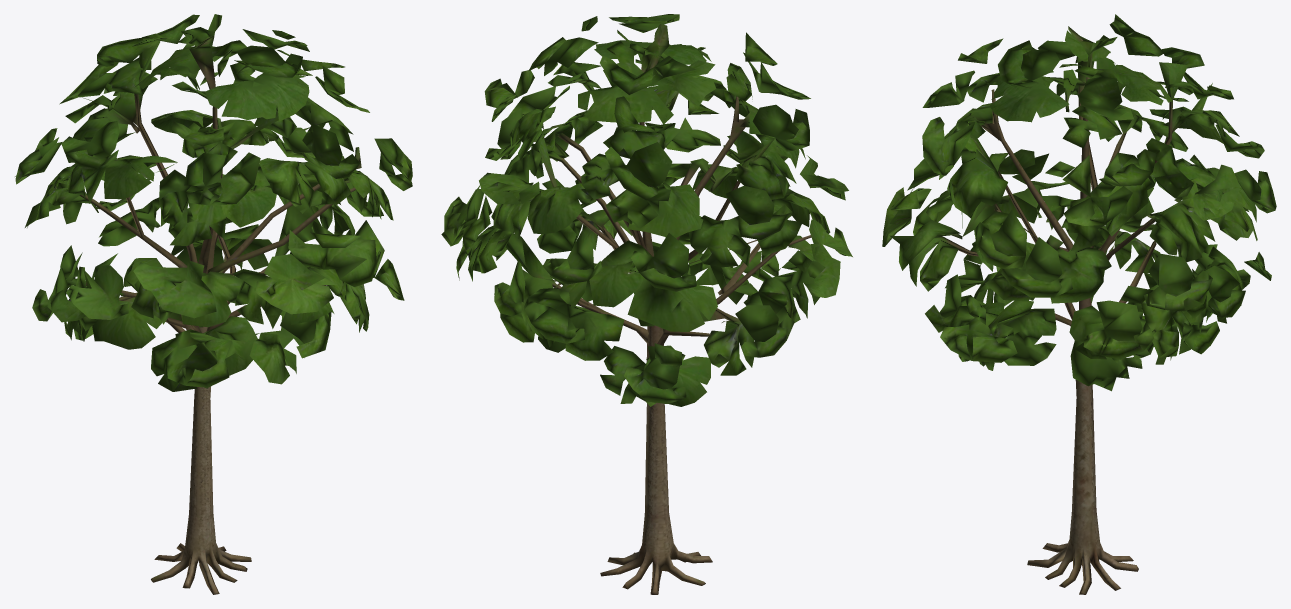
Rendered from tropical-tree.glb.
3 views of the same model, side by side, from view 1: azimuth 30°, elevation 25°; view 2: azimuth 150°, elevation 25°; view 3: azimuth 270°, elevation 25° (orthographic).
Visible parts, largest first — view 1: tripo_node_efb62ff9-78cc-4d41-b918-d1b6026160a8; view 2: tripo_node_efb62ff9-78cc-4d41-b918-d1b6026160a8; view 3: tripo_node_efb62ff9-78cc-4d41-b918-d1b6026160a8.
Part boxes in pixels (x1=…): tripo_node_efb62ff9-78cc-4d41-b918-d1b6026160a8: x1=15, y1=14, x2=412, y2=594; tripo_node_efb62ff9-78cc-4d41-b918-d1b6026160a8: x1=441, y1=14, x2=852, y2=594; tripo_node_efb62ff9-78cc-4d41-b918-d1b6026160a8: x1=882, y1=14, x2=1276, y2=594.
Bounding box in the file's own units: 0.666 × 0.998 × 0.6543.
1 material, 1 textured.
